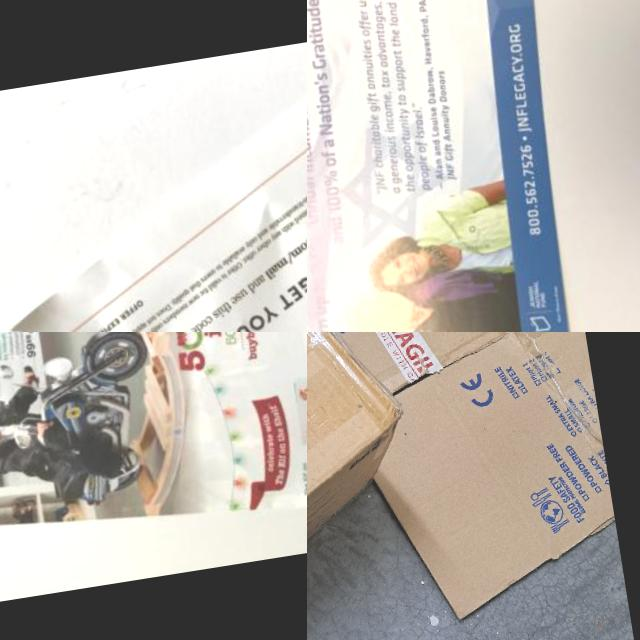papel: (307, 0, 593, 332), (0, 34, 307, 332), (0, 332, 307, 576)
papelão: (307, 332, 626, 640), (307, 332, 436, 640)
